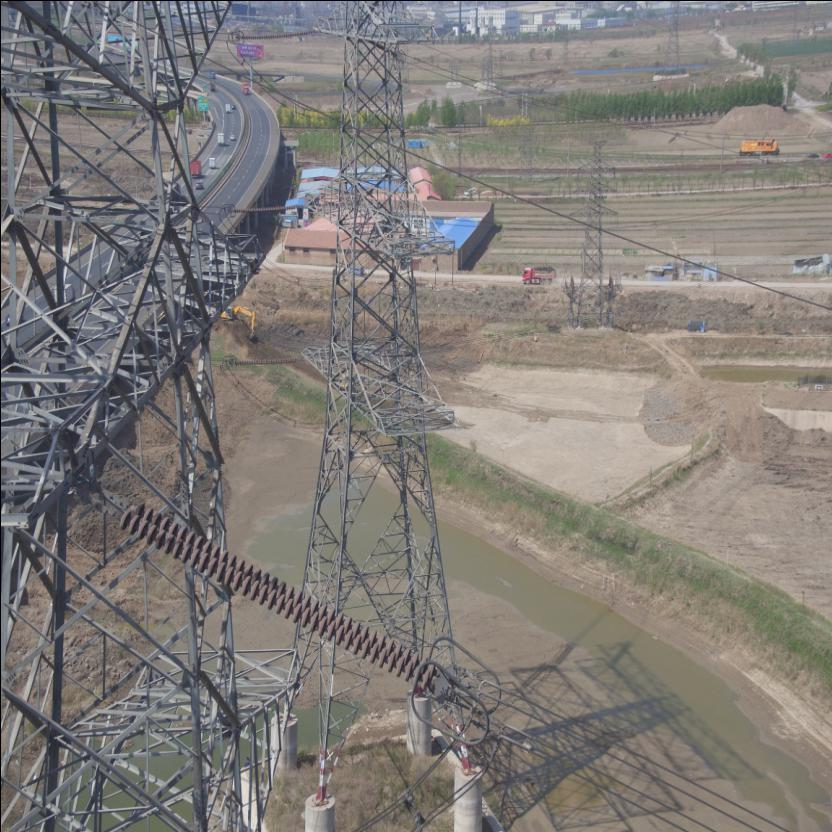insulator: (110, 497, 440, 689)
